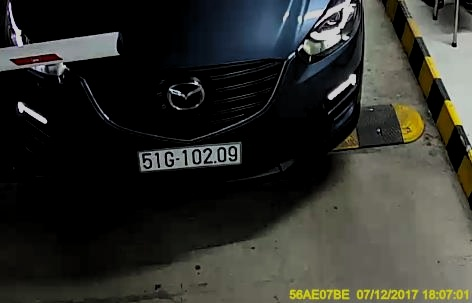plate: (135, 140, 246, 174)
